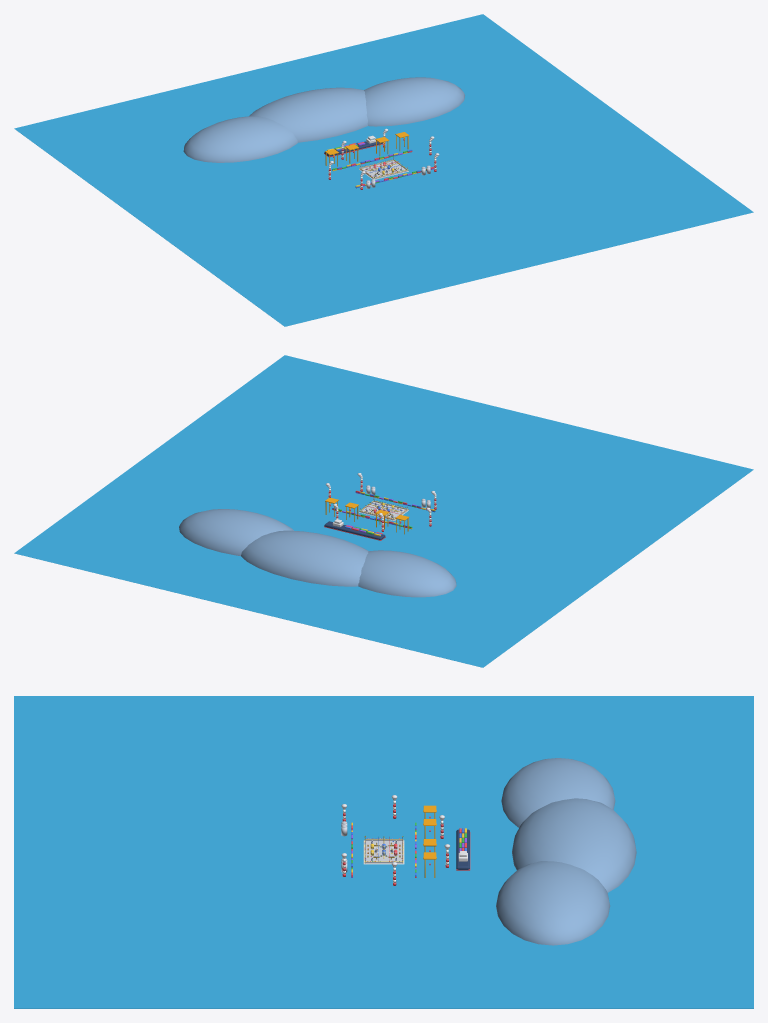
The model's file is fabrica.glb.
3 renders of one model, top to bottom at view 1: azimuth 30°, elevation 25°; view 2: azimuth 150°, elevation 25°; view 3: azimuth 270°, elevation 25°, orthographic. The views are drawn at different scales.
Parts seen in each view (by area): view 1: Visual.003; view 2: Visual.003; view 3: Visual.003.
Boxes of the visible parts, x1=… form: Visual.003: x1=14, y1=14, x2=753, y2=326; Visual.003: x1=14, y1=355, x2=753, y2=667; Visual.003: x1=14, y1=696, x2=753, y2=1008.
Bounding box in the file's own units: 1400 × 140 × 1400.
